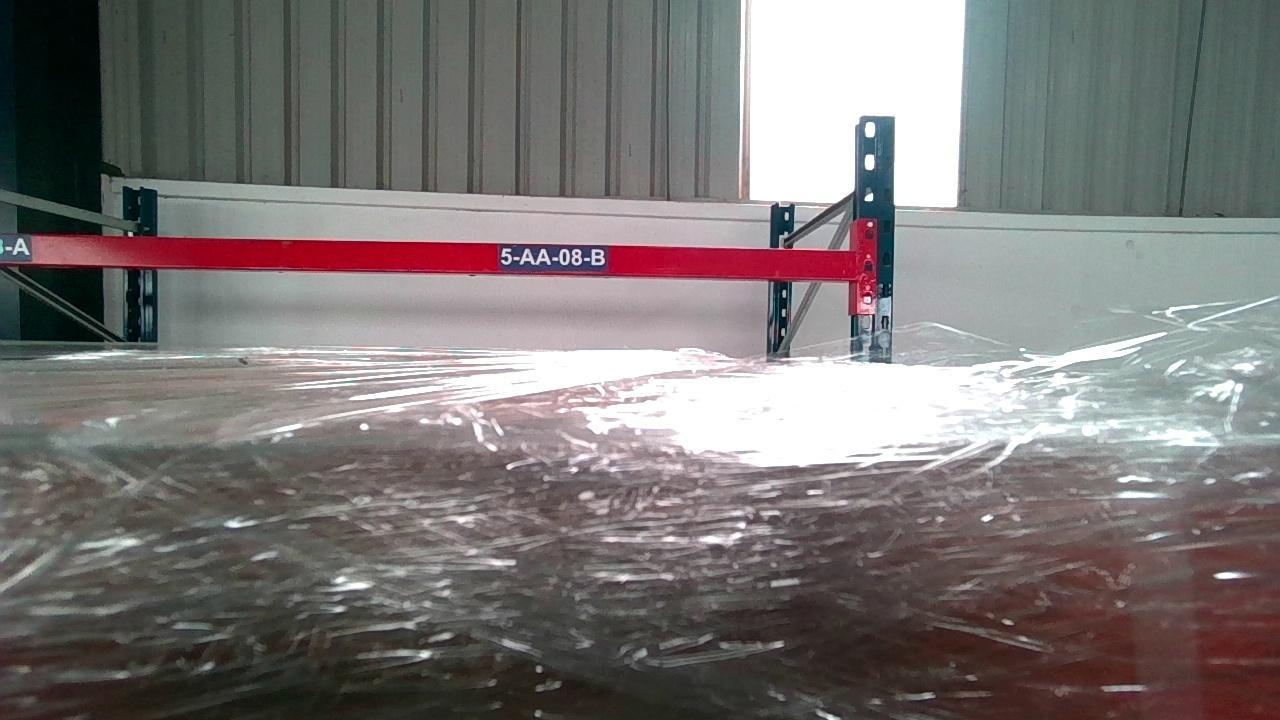h_rack: (1, 231, 868, 277)
